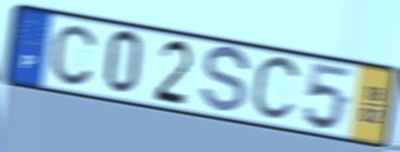0: (101, 27, 147, 101)
2: (153, 39, 196, 108)
5: (302, 59, 357, 132)
C: (248, 53, 304, 125), (50, 23, 98, 88)
S: (198, 44, 254, 117)
